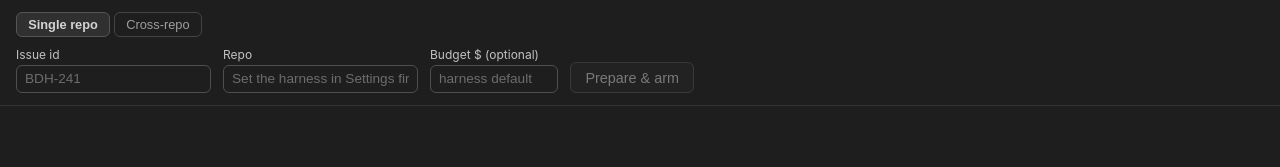
Test: preparing and arming a run from the app › prepares, arms, shows the owners, and refreshes the inbox
expect the button "Prepare & arm" is shown: met, box [570,62,694,93]
In the field with placeholder "BDH-241": (114, 79) [16,65,211,93], type "BDH-239"
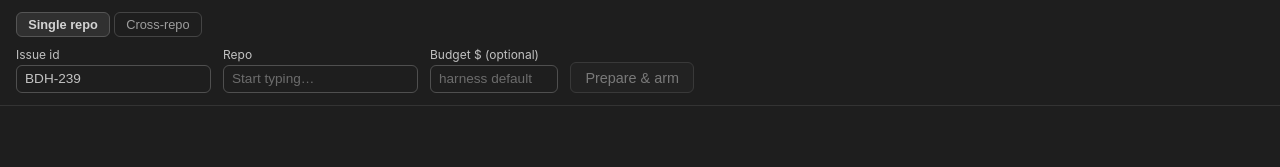
In the field with placeholder "Start typing…": (320, 79) [223,65,418,93], type "Bodhilander"
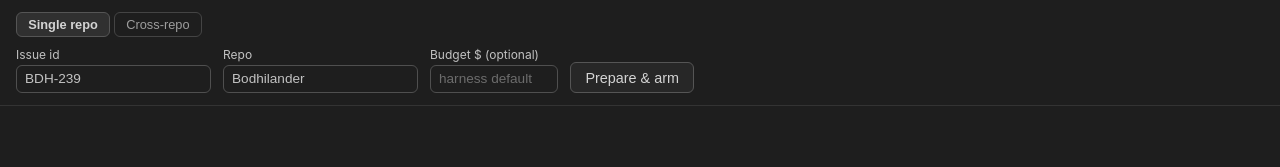
Click the button "Prepare & arm": (632, 78) [570,62,694,93]
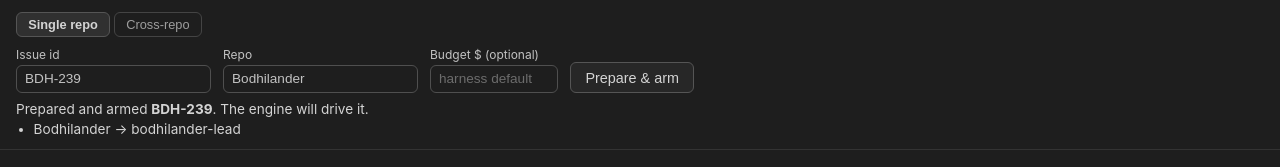
expect the text "Prepared and armed BDH-239. The engine will drive it." is shown: met, box [16,101,369,117]
expect the list item "Bodhilander → bodhilander-lead" is shown: met, box [34,121,241,137]
